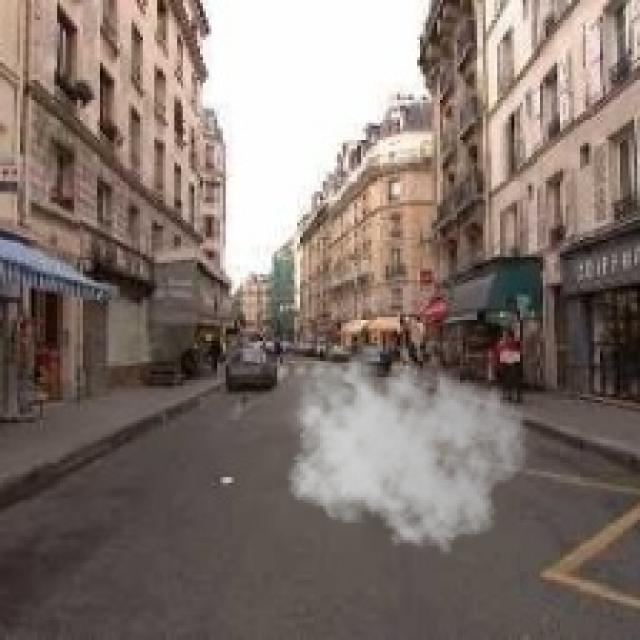smoke: (280, 343, 529, 554)
